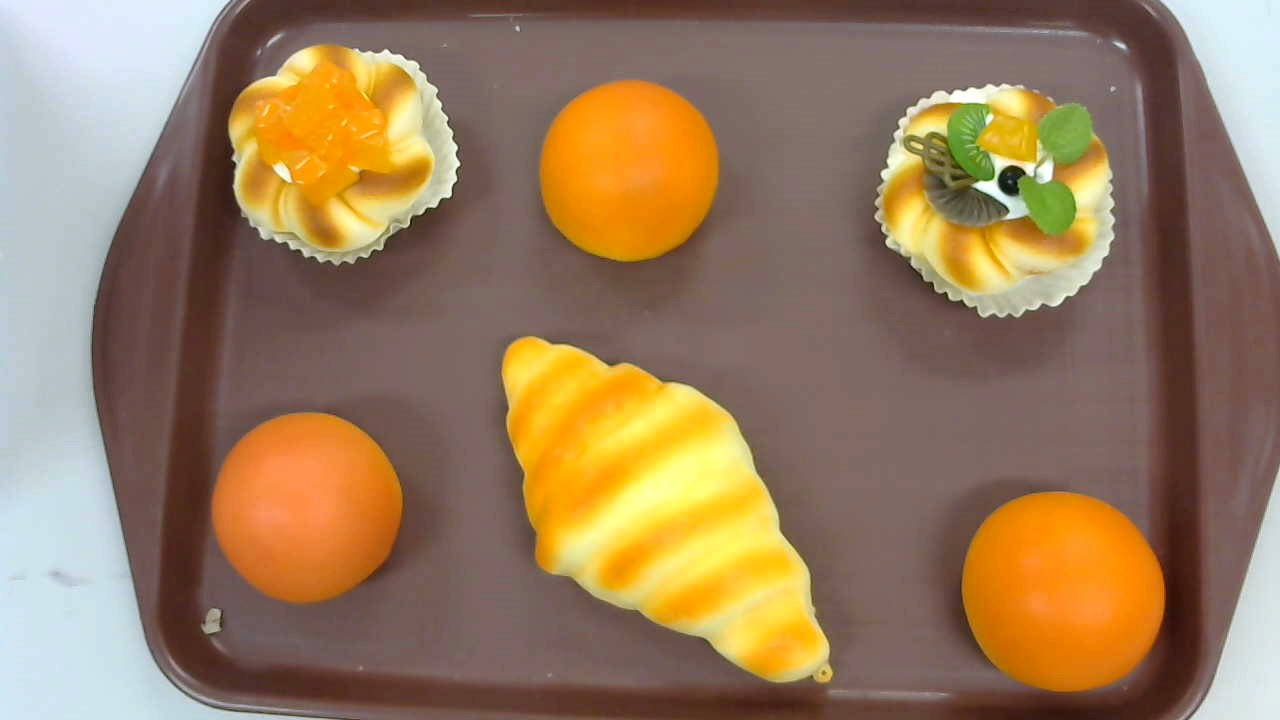bun: (959, 491, 1166, 692), (210, 410, 402, 604), (540, 78, 719, 262)
croissant: (500, 335, 834, 682)
fruit tart: (874, 81, 1116, 318)
mango tart: (228, 43, 461, 267)
